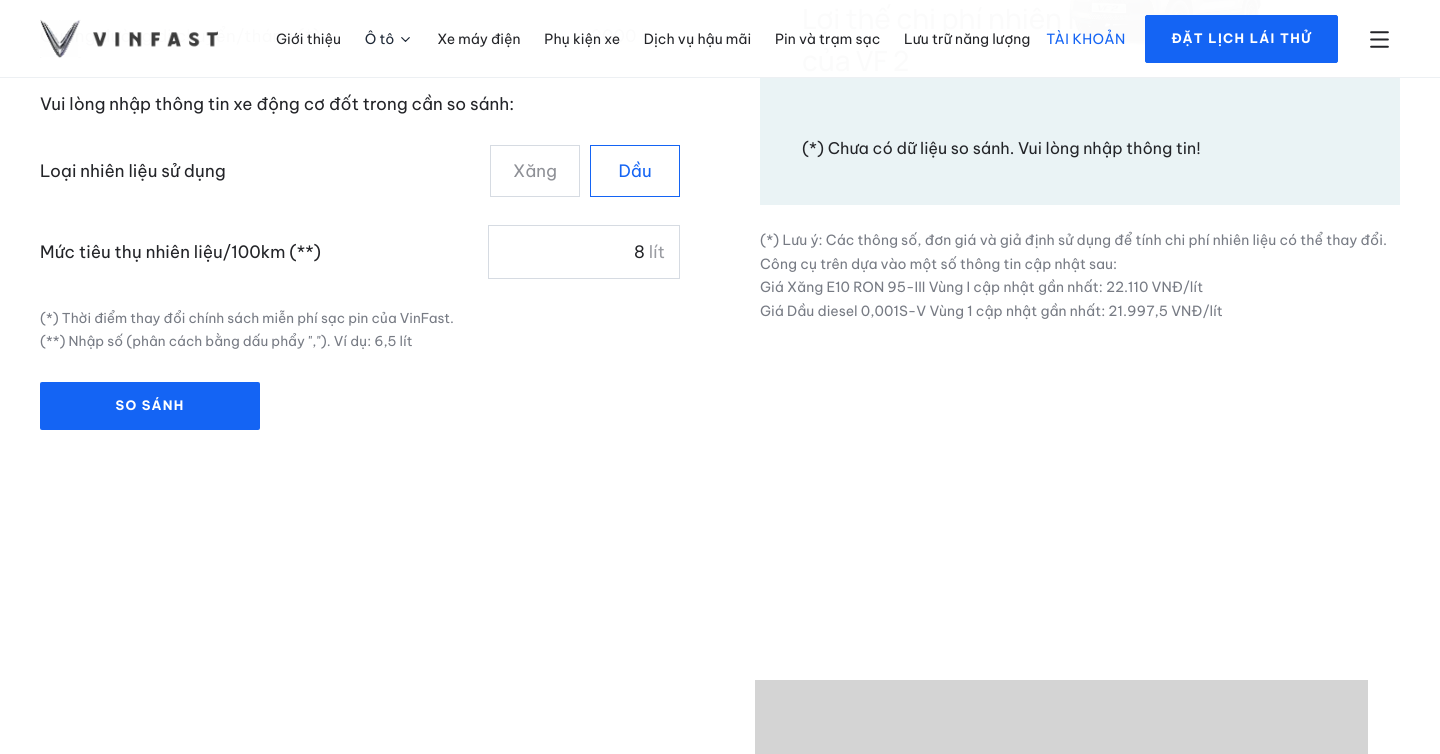
Test: Vf2Experience › calculates the monthly fuel advantage
(page scrolled)
Click the button "SO SÁNH" at coordinates (150, 406), box x1=40 y1=382 x2=260 y2=430
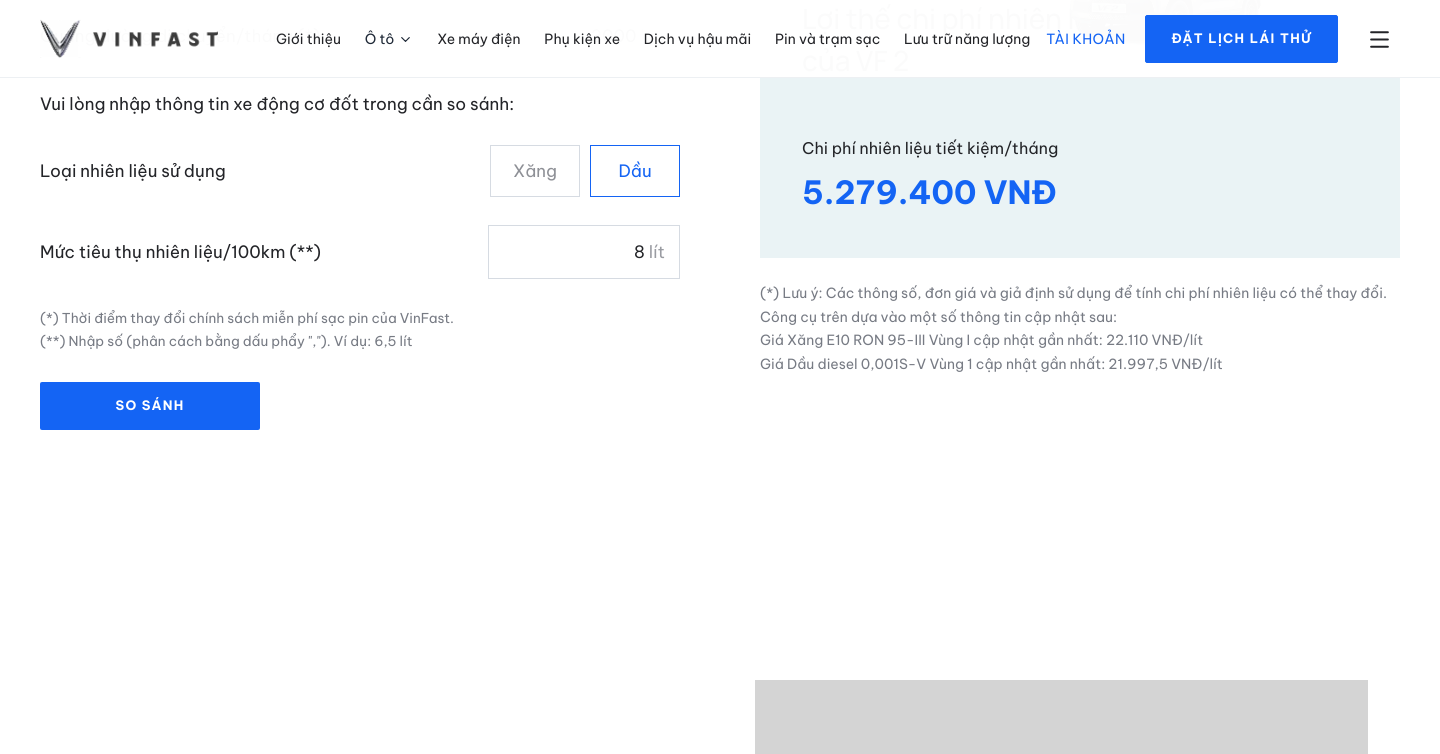
Result: the text "5.279.400 VNĐ" is shown at x1=802 y1=172 x2=1057 y2=212
